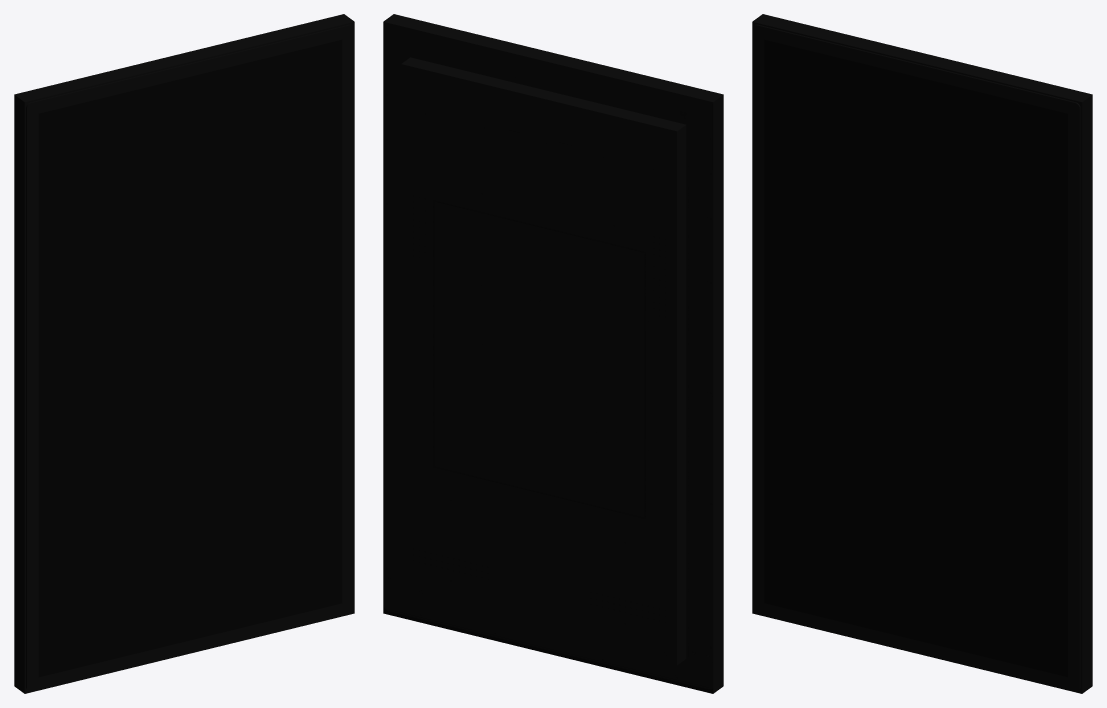
Rendered from UTC_532.fbx.
3 views of the same model, side by side, from view 1: azimuth 30°, elevation 25°; view 2: azimuth 150°, elevation 25°; view 3: azimuth 330°, elevation 25° (orthographic).
Parts seen in each view (by area): view 1: B, A, C; view 2: D, C; view 3: B, A, C.
Boxes of the visible parts, x1,y1,x2,y2 form: B: [38, 40, 342, 677]; A: [26, 24, 354, 691]; C: [14, 14, 354, 693]; D: [383, 22, 713, 693]; C: [383, 14, 723, 693]; B: [764, 39, 1067, 677]; A: [752, 24, 1080, 691]; C: [752, 14, 1092, 693].
Bounding box in the file's own units: 45.84 × 78.55 × 4.97.
